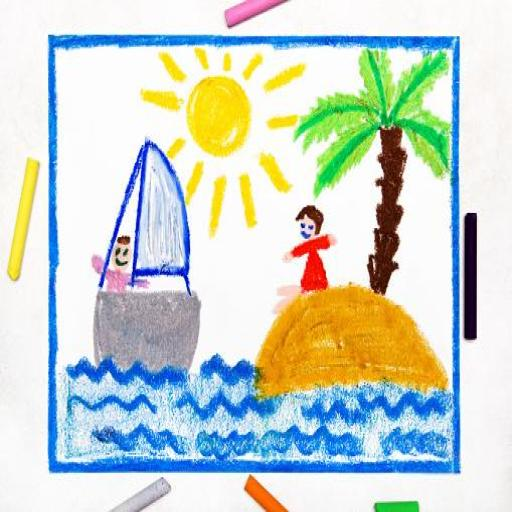person: (269, 198, 342, 318), (88, 229, 151, 303)
